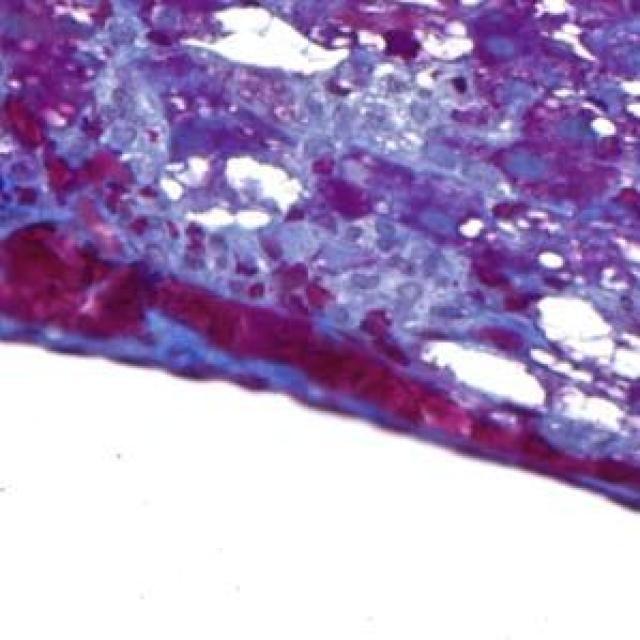ballooning: (156, 141, 315, 242)
